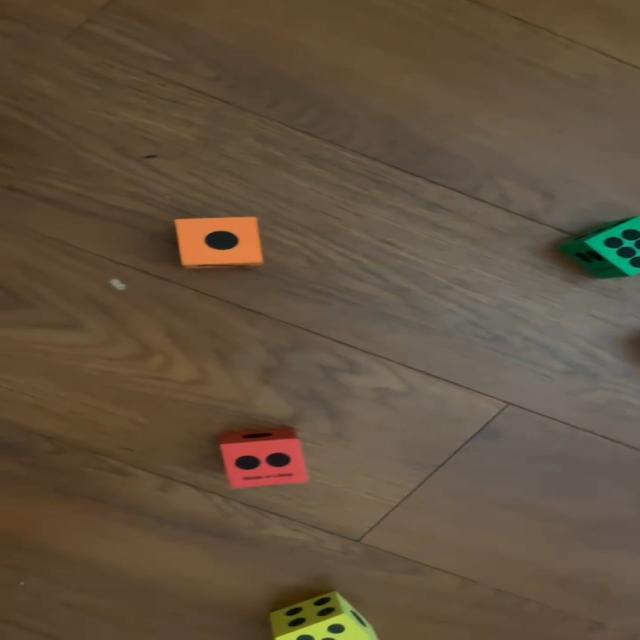red_block: (220, 425, 310, 489)
